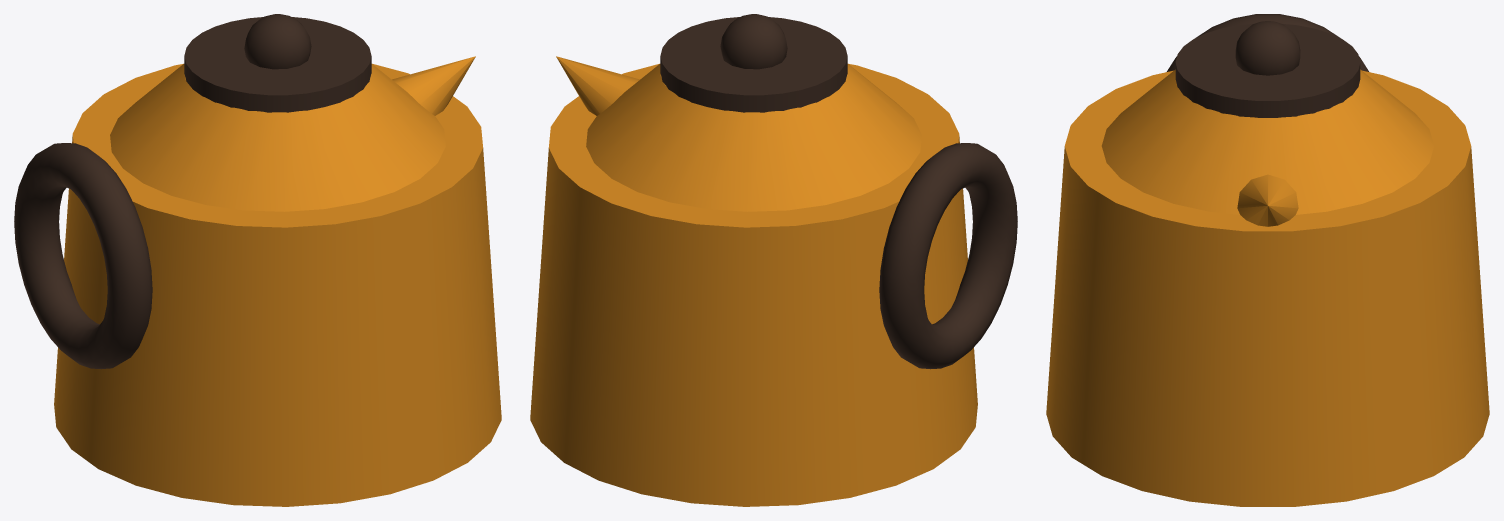
File: home_eq_syrup_pot.glb
The picture shows the model from 3 angles, left to right: view 1: azimuth 30°, elevation 25°; view 2: azimuth 150°, elevation 25°; view 3: azimuth 270°, elevation 25°; orthographic projection.
Bounding box in the file's own units: 0.2543 × 0.233 × 0.24.
